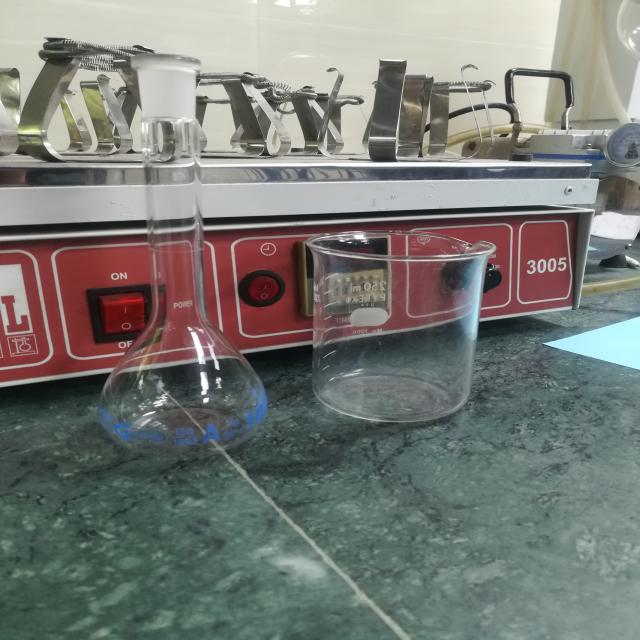Beaker: (304, 214, 509, 428)
Volumetric_Flask: (67, 30, 279, 468)
